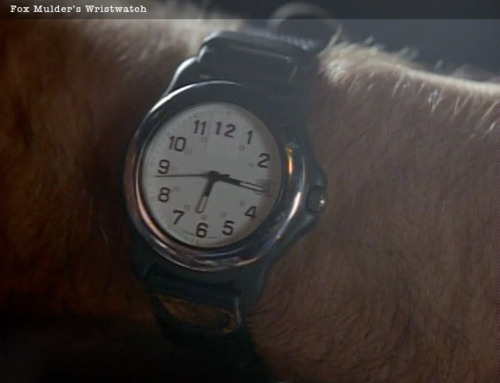clock: (124, 80, 310, 277)
